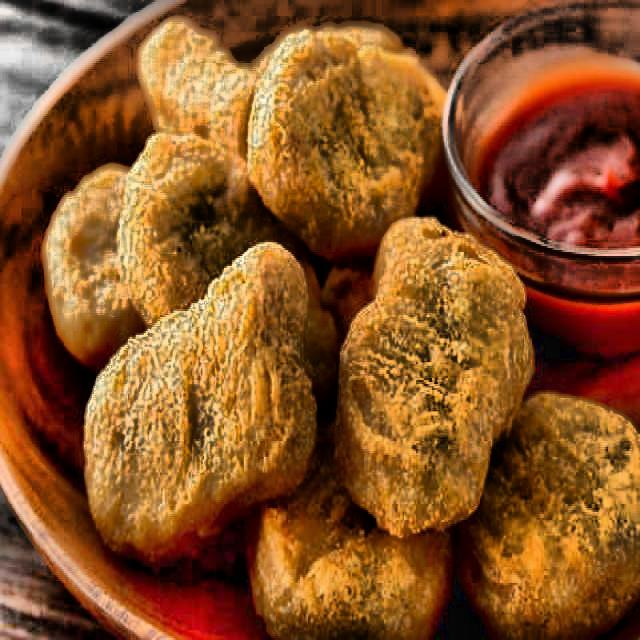Food: (58, 24, 626, 638)
